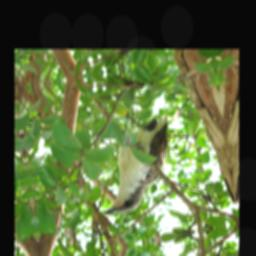Cuckoo: (91, 112, 181, 218)
